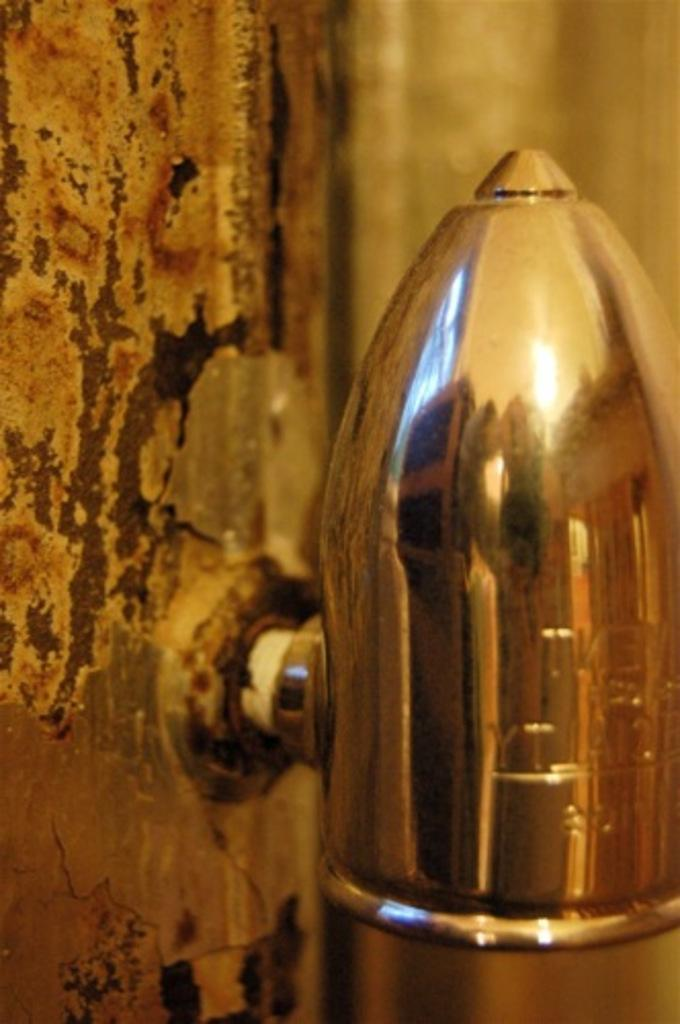handle: (307, 162, 655, 977)
